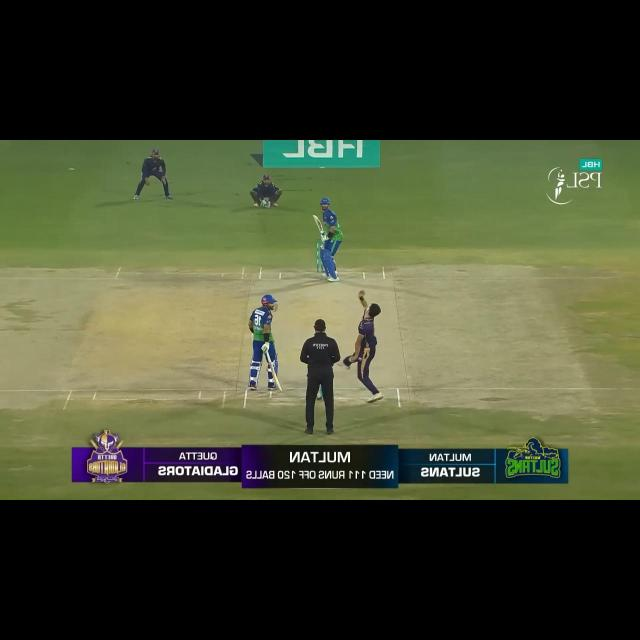bat: (270, 364, 282, 392), (312, 214, 323, 232)
toe: (277, 383, 282, 392), (312, 214, 318, 220)
